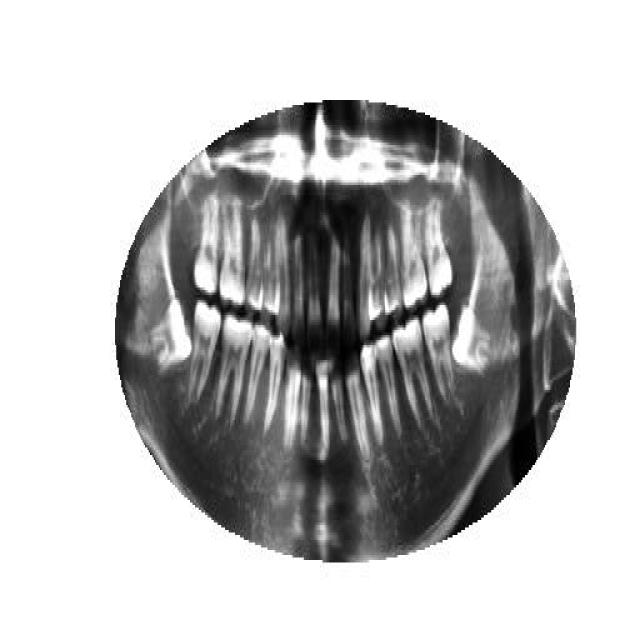Impacted Tooth: (451, 305, 495, 383), (150, 300, 191, 375)
